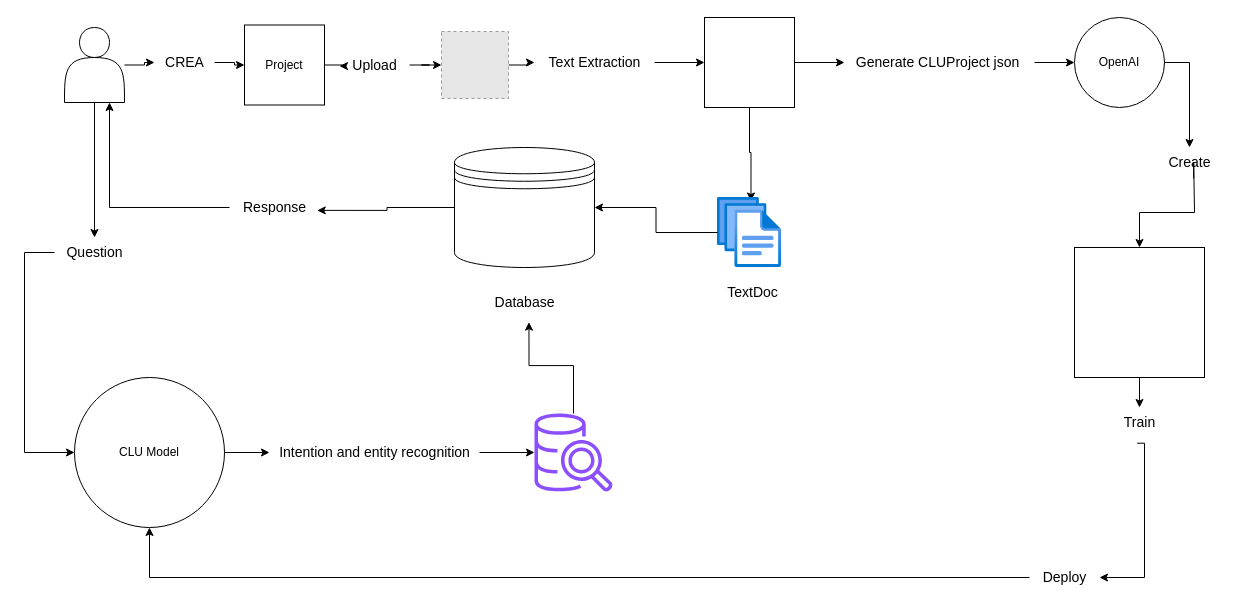
The diagram is 1242 pixels wide and 610 high, and some of its shapes have lost their labels. Grey dashed boxes stand in for pictures. The box of each missing label's shape, as (x1, y1, x2, y2) in pixels:
CrearCluProject en azure: (1074, 246, 1204, 378)
OCR: (704, 16, 794, 108)
